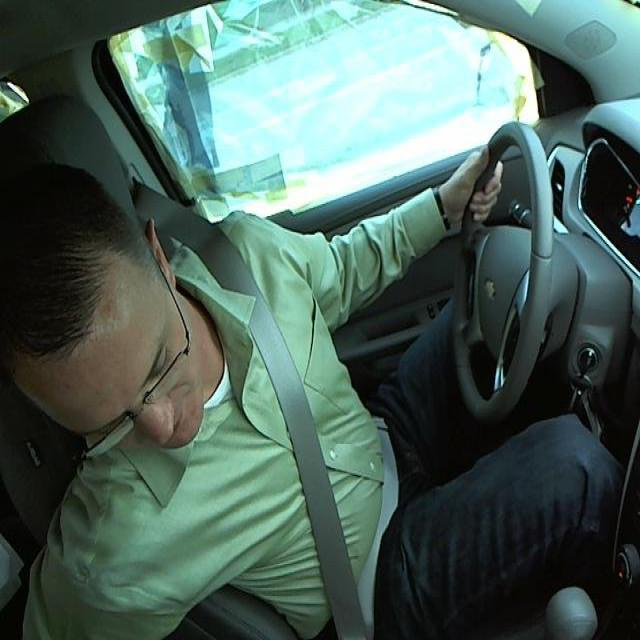seatbelt: (202, 260, 371, 633)
